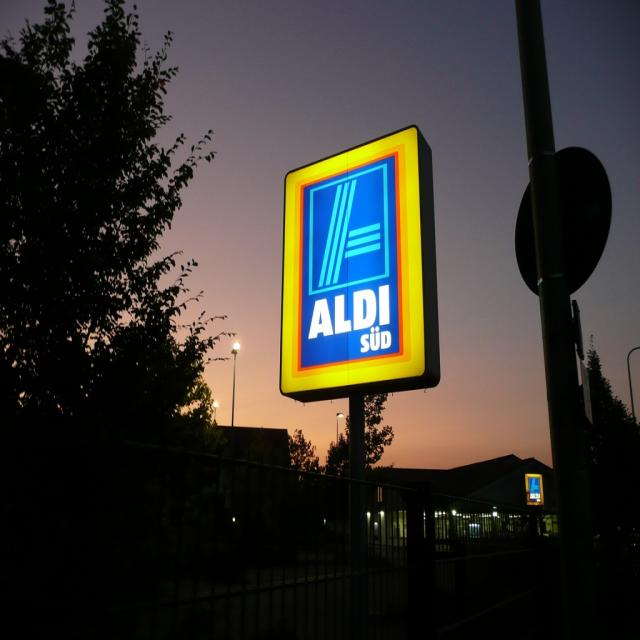aldi: (282, 127, 426, 396), (525, 472, 546, 508)
